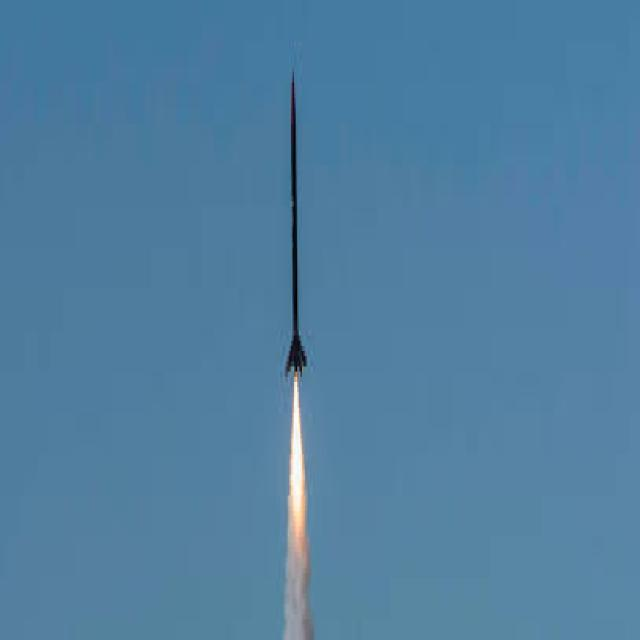Rocket: (284, 61, 309, 385)
